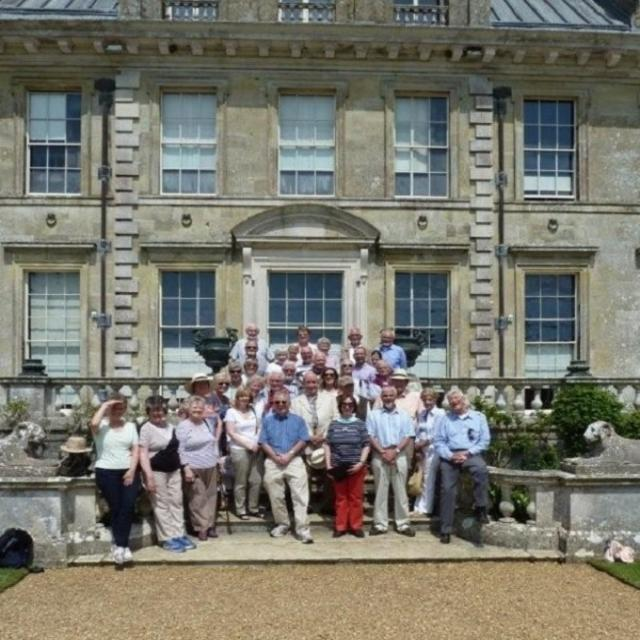body: (209, 336, 422, 388), (253, 385, 317, 545), (429, 386, 492, 546), (88, 388, 142, 568), (138, 393, 197, 553), (364, 382, 417, 539), (321, 389, 371, 541), (174, 391, 224, 541), (220, 384, 266, 520), (371, 368, 428, 476), (404, 385, 448, 519), (204, 370, 237, 508), (290, 370, 343, 443), (328, 372, 376, 424), (180, 372, 228, 421), (228, 323, 278, 364), (256, 368, 301, 406), (337, 326, 373, 370), (374, 328, 408, 370), (290, 324, 317, 360), (202, 393, 220, 427)
